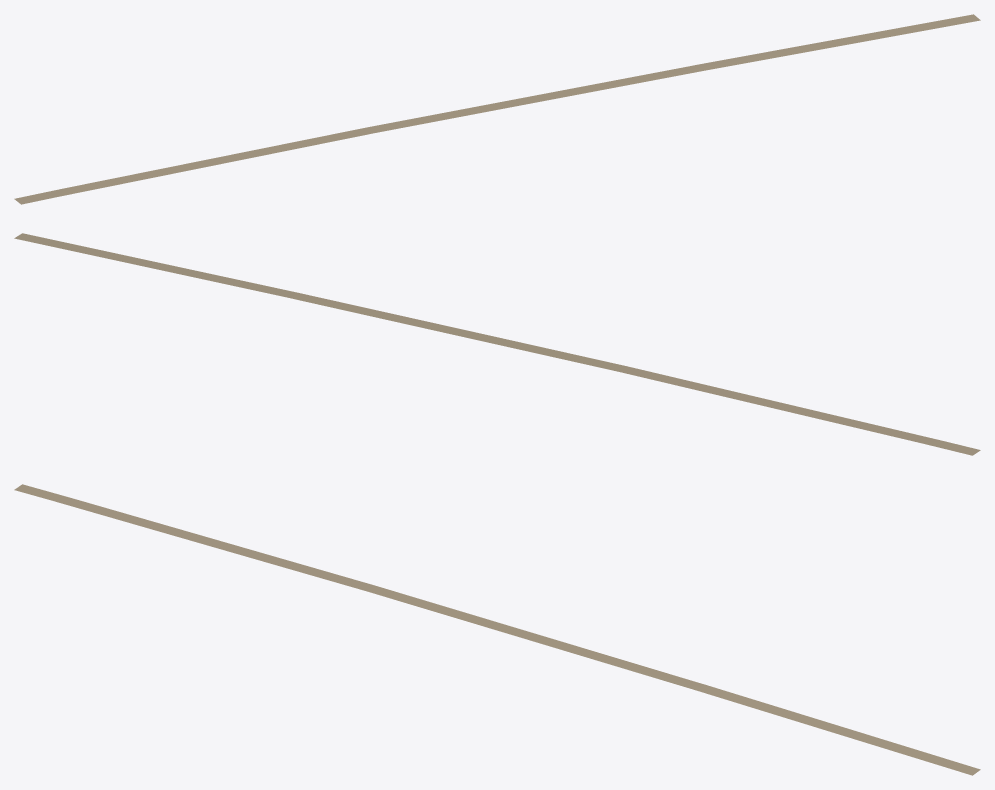
File: farm_28_25_track.glb
3 views of the same model, one above another, from view 1: azimuth 30°, elevation 25°; view 2: azimuth 150°, elevation 25°; view 3: azimuth 330°, elevation 25° (orthographic). The views are drawn at different scales.
Visible parts, largest first — view 1: geometry_0; view 2: geometry_0; view 3: geometry_0.
Boxes of the visible parts, x1=… form: geometry_0: x1=14, y1=14, x2=980, y2=204; geometry_0: x1=14, y1=233, x2=980, y2=455; geometry_0: x1=14, y1=484, x2=980, y2=775.
Bounding box in the file's own units: 233 × 7.84 × 10.65.
